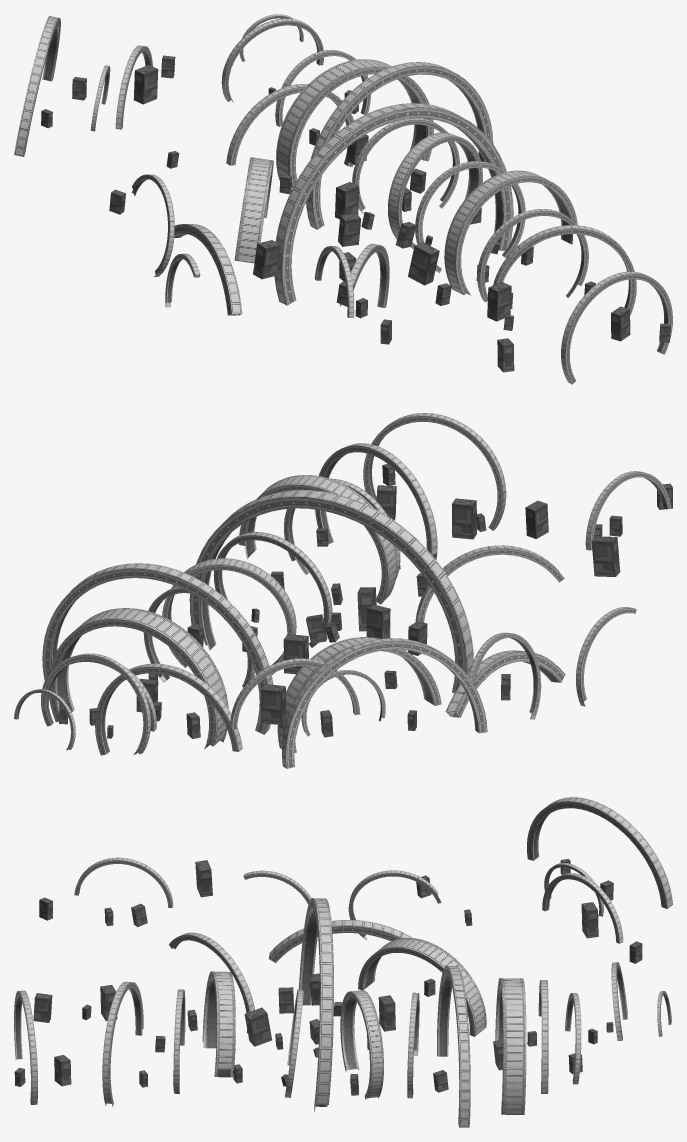
Rendered from BackgroundParts.fbx.
The picture shows the model from 3 angles, top to bottom: view 1: azimuth 30°, elevation 25°; view 2: azimuth 150°, elevation 25°; view 3: azimuth 270°, elevation 25°; orthographic projection. The views are drawn at different scales.
Parts seen in each view (by area): view 1: polySurface1112; view 2: polySurface1112; view 3: polySurface1112.
Part boxes in pixels (<box>): polySurface1112: <box>14,14,672,384</box>; polySurface1112: <box>14,413,672,768</box>; polySurface1112: <box>14,797,672,1127</box>.
Bounding box in the file's own units: 40.15 × 16.67 × 57.11.
